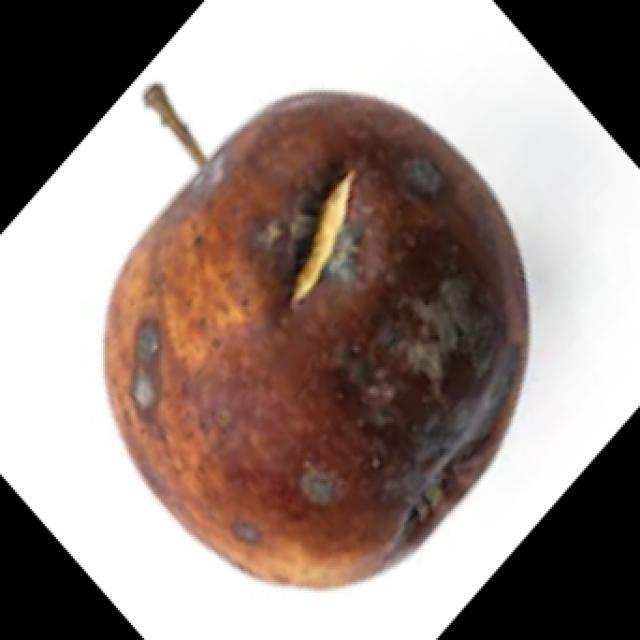Rotten: (42, 77, 538, 593)
